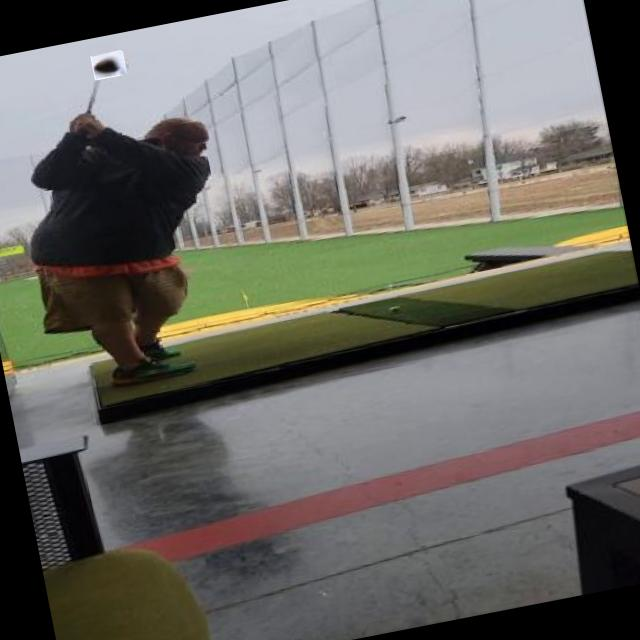club head: (90, 50, 128, 80)
